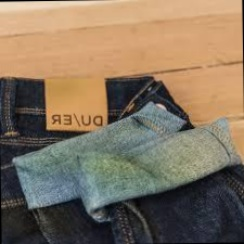earth: (88, 153, 140, 174)
